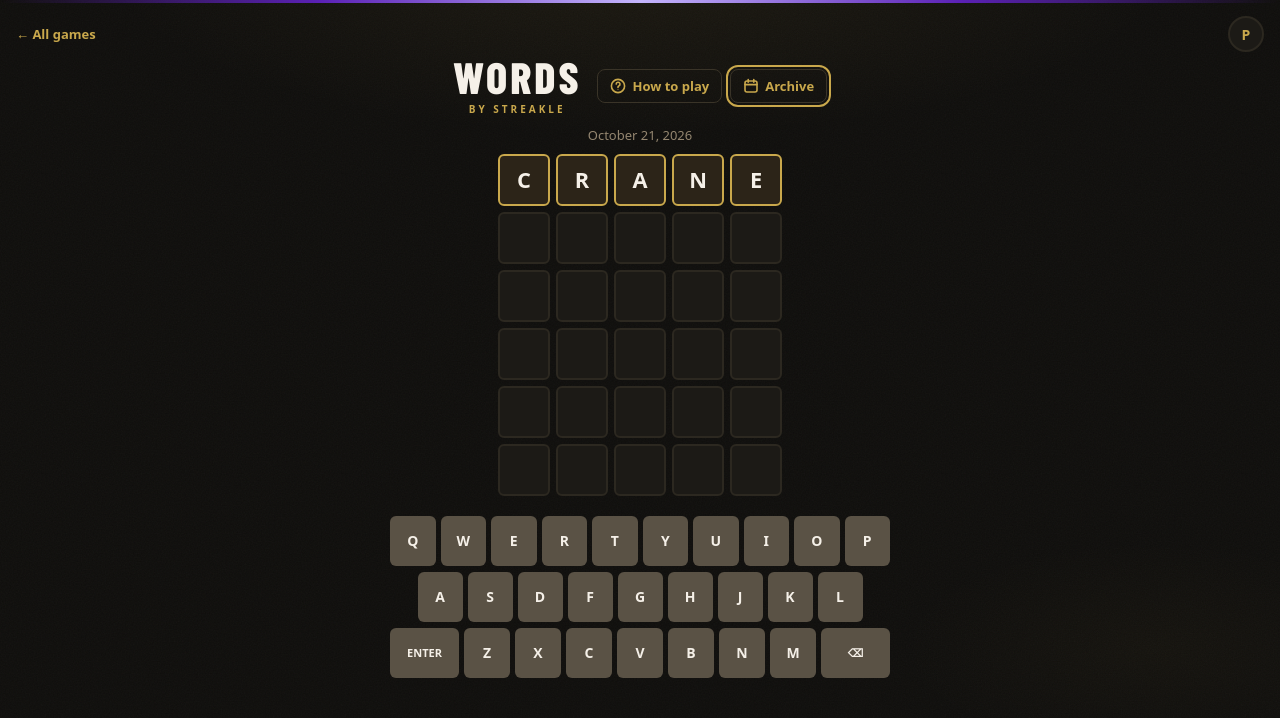
Words: Enter on a focused page button with letters typed (F160) › opens the Archive from the keyboard with a full row typed, and takes no guess
Press Enter in the button with aria-label "Archive", box [730,69,827,103]
Click the button with aria-label "Archive" at (779, 86), box [730,69,827,103]
Wait 2000 ms
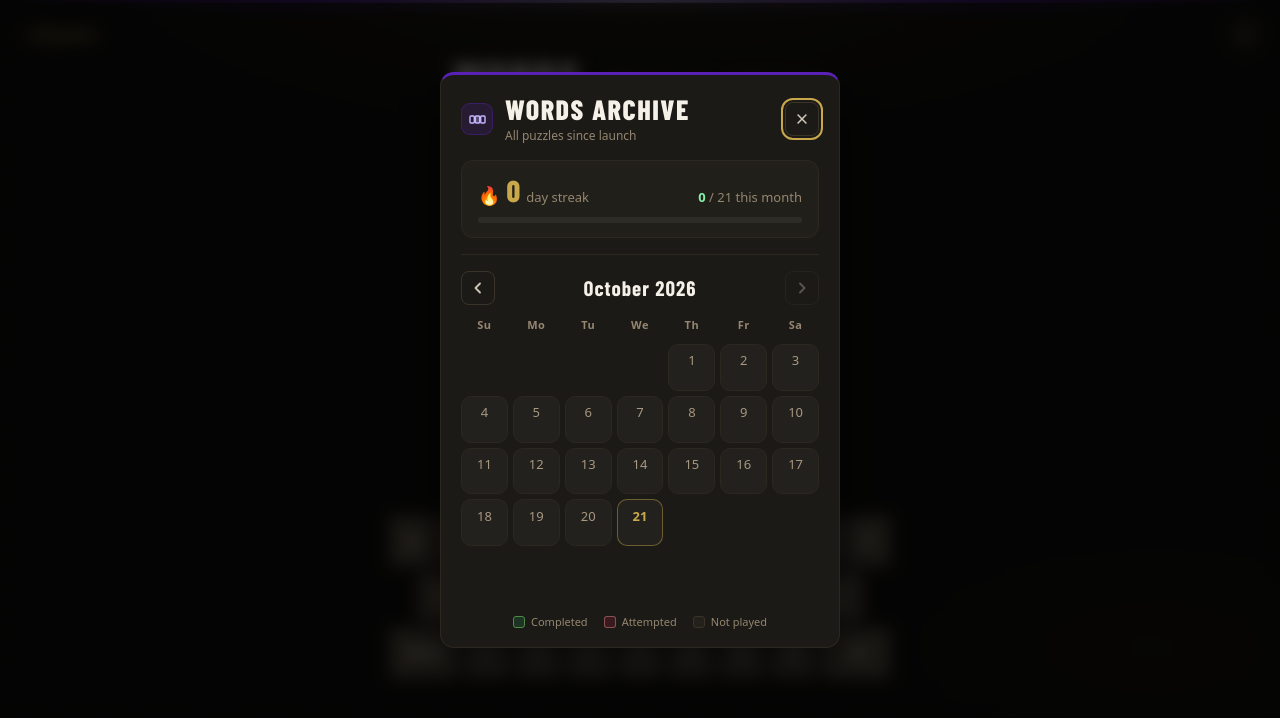
Expected: the dialog is shown, [440,72,840,648]
